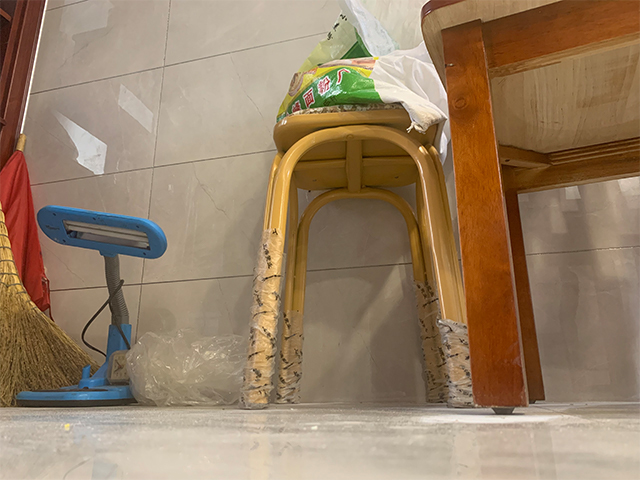stool: (418, 1, 640, 415), (240, 102, 473, 410)
